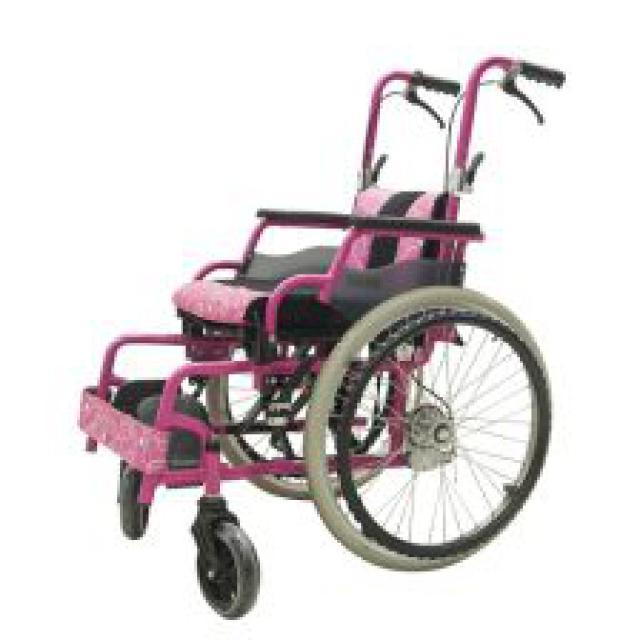wheelchair: (68, 29, 598, 626)
